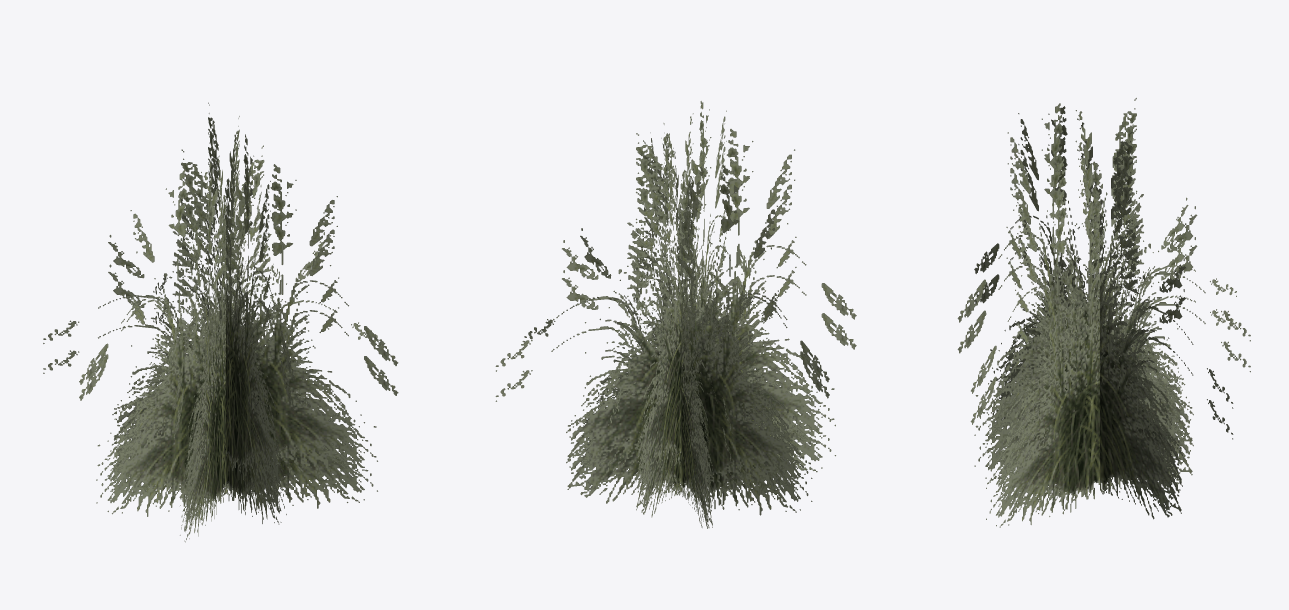
File: fluffyWeedLOW.fbx
The picture shows the model from 3 angles, left to right: view 1: azimuth 30°, elevation 25°; view 2: azimuth 150°, elevation 25°; view 3: azimuth 270°, elevation 25°; orthographic projection. The views are drawn at different scales.
Parts seen in each view (by area): view 1: fluffyWeeds; view 2: fluffyWeeds; view 3: fluffyWeeds.
Boxes of the visible parts, box(x1,y1,x2,y2) form: fluffyWeeds: box(43, 102, 398, 542); fluffyWeeds: box(495, 101, 856, 528); fluffyWeeds: box(957, 98, 1250, 527).
Bounding box in the file's own units: 35.41 × 28.64 × 39.95.
1 material, 1 textured.
